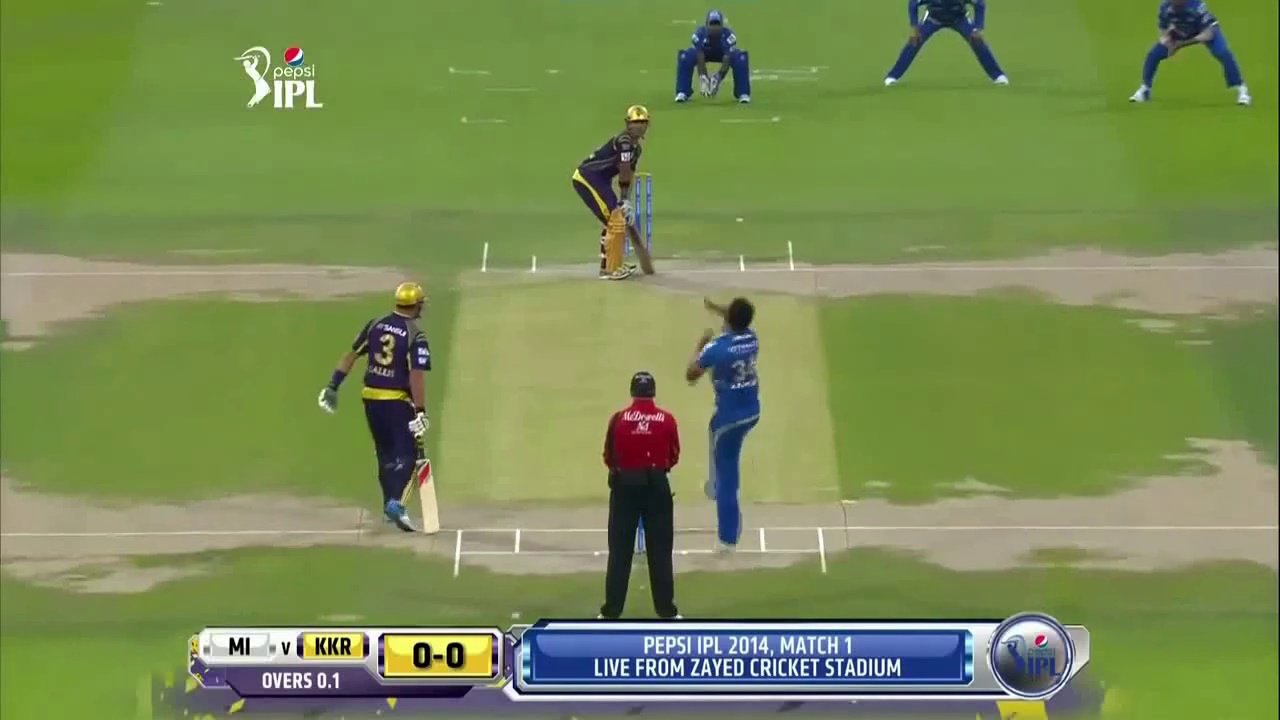bat: (415, 438, 441, 535)
